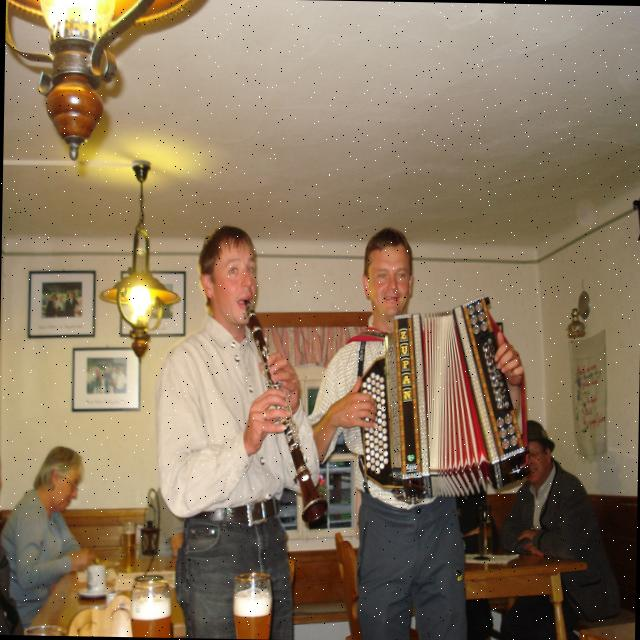clarinet: (240, 297, 332, 528)
